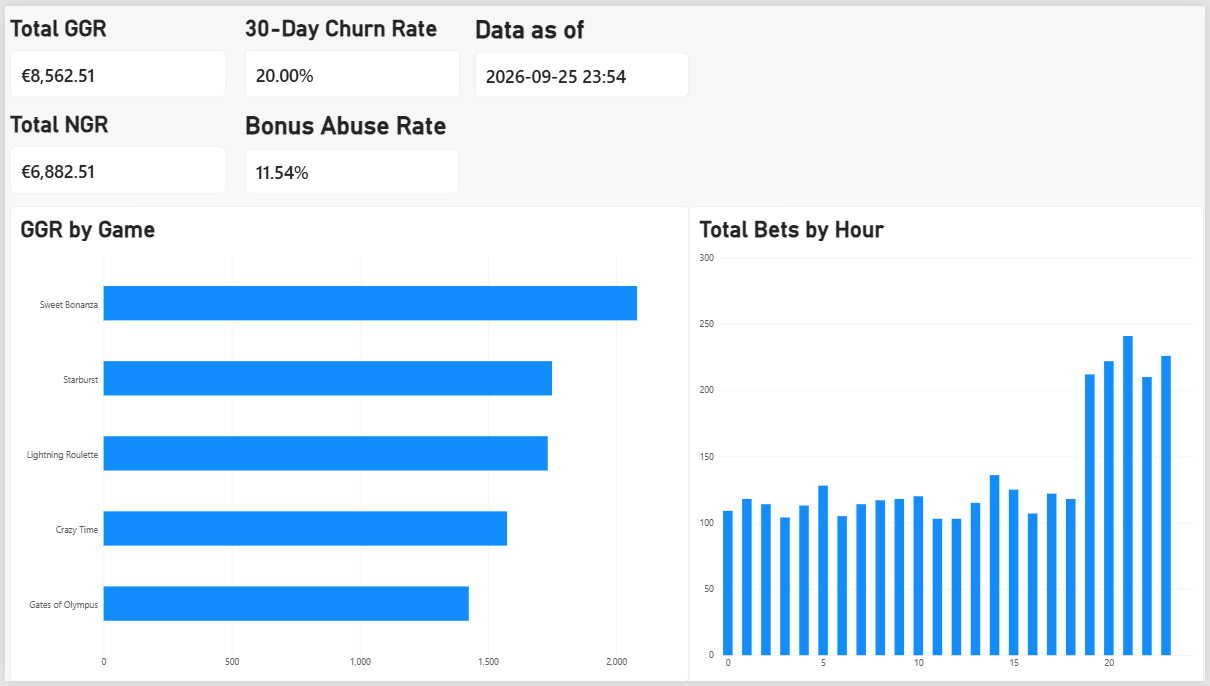

The dashboard page shown, as its layout file describes it:
{"tool":"powerbi","page":{"name":"Metrics","canvas":[1920,1080],"ordinal":0},"visuals":[{"type":"cardVisual","title":"Total GGR","fields":{"Data":["public bets.GGR Formatado"]},"box":[8.6,14.4,345.7,132.5],"z":0},{"type":"barChart","title":"GGR by Game","fields":{"Category":["public games.name"],"Y":["public bets.GGR"]},"box":[8.6,319.8,1086.2,760.6],"z":1000},{"type":"columnChart","fields":{"Category":["public bets.Hora"],"Y":["public bets.Total Apostas"]},"box":[1094.9,319.8,824,763.5],"z":2000},{"type":"cardVisual","title":"Total NGR","fields":{"Data":["public bets.NGR Formatado"]},"box":[8.6,167.1,345.7,132.5],"z":3000},{"type":"cardVisual","title":"30-Day Churn Rate","fields":{"Data":["public bets.Churn Formatado"]},"box":[383.2,14.4,344,132],"z":4000},{"type":"cardVisual","title":"Data as of","fields":{"Data":["public bets.Reference Date Display"]},"box":[752,14.4,342.9,132.5],"z":5000},{"type":"cardVisual","title":"Bonus Abuse Rate","fields":{"Data":["public bets.Abuse Rate Display"]},"box":[383.2,167.1,342.9,132.5],"z":6000}]}

Visuals, with their boxes in screenshot pixels (x1, y1, x2, y2), scaled from the page's 1920x1080 canvas onto the 1210x686 screenshot:
"Total GGR" cardVisual: <box>5,9,223,93</box>
"GGR by Game" barChart: <box>5,203,690,685</box>
columnChart - public bets.Hora x public bets.Total Apostas: <box>690,203,1209,685</box>
"Total NGR" cardVisual: <box>5,106,223,190</box>
"30-Day Churn Rate" cardVisual: <box>241,9,458,93</box>
"Data as of" cardVisual: <box>474,9,690,93</box>
"Bonus Abuse Rate" cardVisual: <box>241,106,458,190</box>
